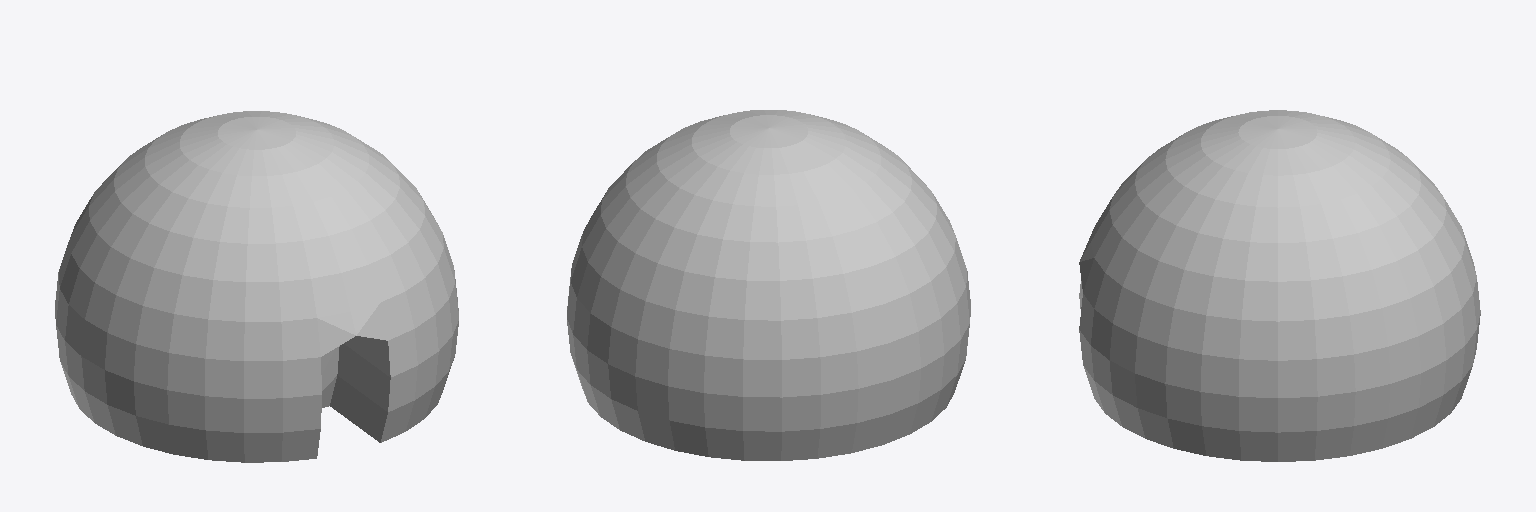
The model's file is house_bottom.obj.
3 renders of one model, left to right at view 1: azimuth 30°, elevation 25°; view 2: azimuth 150°, elevation 25°; view 3: azimuth 270°, elevation 25°, orthographic.
Visible parts, largest first — view 1: Mushroom_House_bottom; view 2: Mushroom_House_bottom; view 3: Mushroom_House_bottom.
Part boxes in pixels (x1,y1,x2,y2): Mushroom_House_bottom: (55, 111, 458, 462); Mushroom_House_bottom: (567, 110, 970, 460); Mushroom_House_bottom: (1079, 110, 1480, 461).
Bounding box in the file's own units: 2 × 1.38 × 1.98.